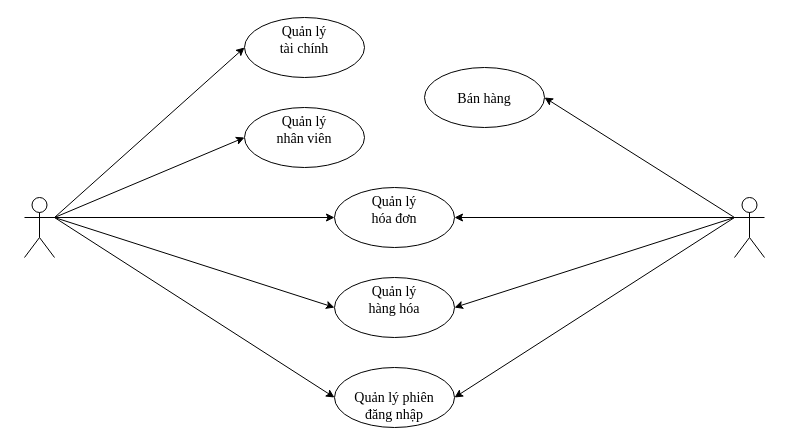
This 796x445 diagram has some shape labels left out. The centre of each missing label's shape, as x and y in pixels:
"Nhân viên bán thuốc" belongs at point (749, 227).
"Quản lý" belongs at point (39, 227).
